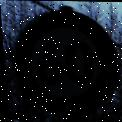Speed Limit -60-: (10, 10, 118, 113)
